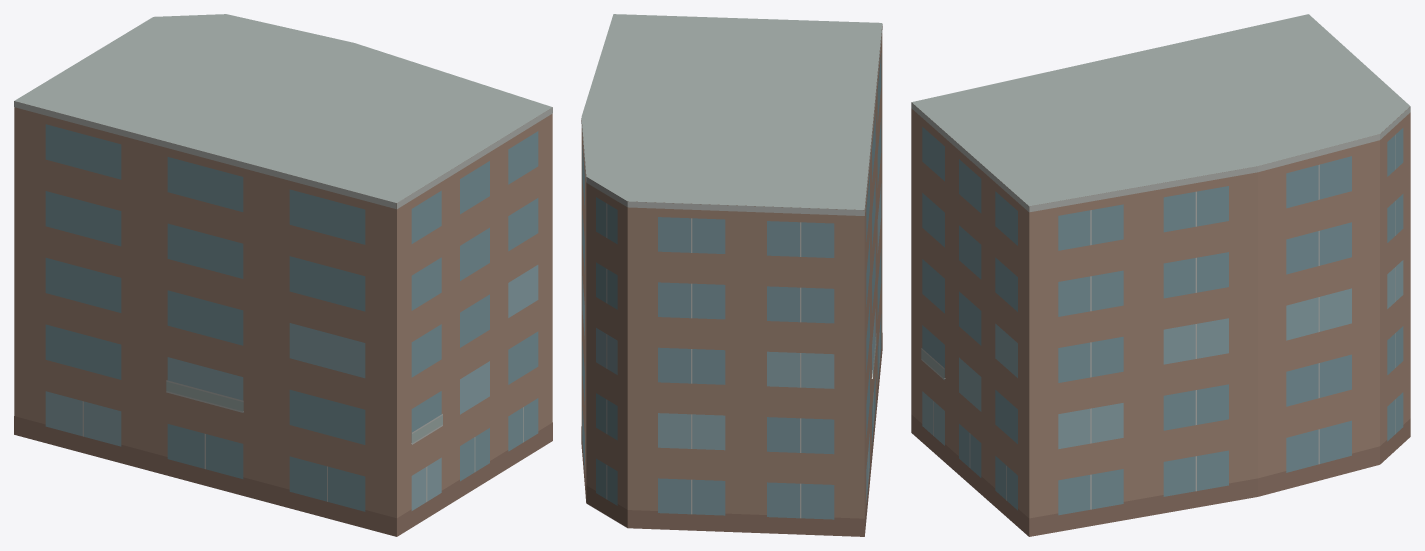
Rendered from survey-upis-32466682.glb.
The picture shows the model from 3 angles, left to right: view 1: azimuth 30°, elevation 25°; view 2: azimuth 150°, elevation 25°; view 3: azimuth 270°, elevation 25°; orthographic projection. The views are drawn at different scales.
Parts seen in each view (by area): view 1: survey-upis-32466682.tmp; view 2: survey-upis-32466682.tmp; view 3: survey-upis-32466682.tmp.
Part boxes in pixels (<box>): survey-upis-32466682.tmp: <box>14,14,552,536</box>; survey-upis-32466682.tmp: <box>581,14,882,536</box>; survey-upis-32466682.tmp: <box>911,14,1410,536</box>.
Bounding box in the file's own units: 16.47 × 13.2 × 18.07.
